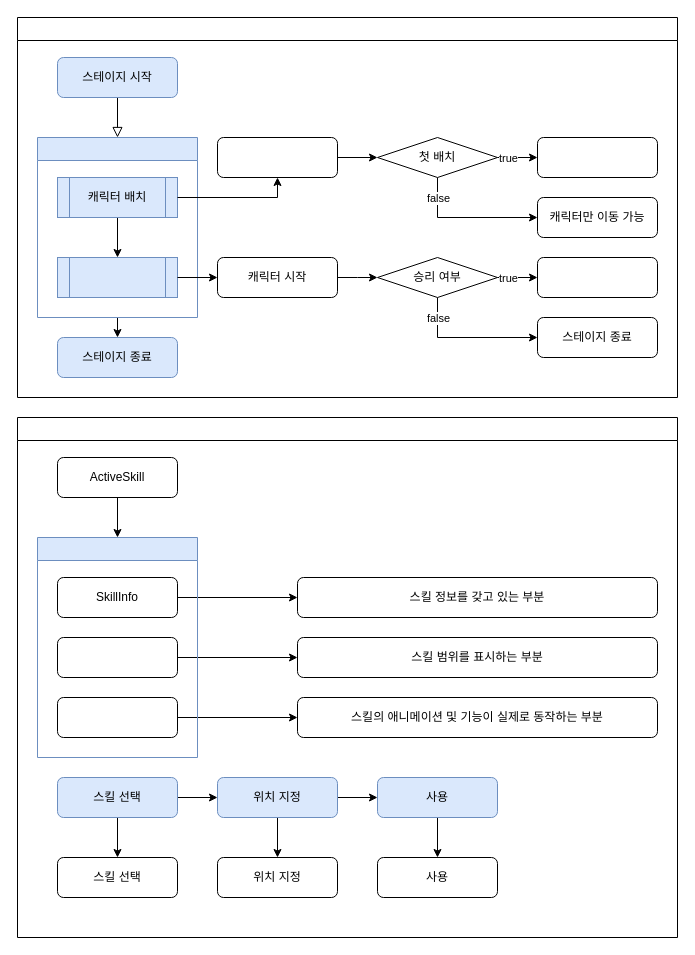
The diagram is 695 pixels wide and 955 high, and some of its shapes have lost their labels. The box of each missing label's shape, as (x1, y1, x2, y2) in pixels:
InGame Flow: (16, 16, 678, 398)
Skill 구조: (16, 416, 678, 938)
SkillArea: (56, 636, 178, 678)
SkillEffect: (56, 696, 178, 738)
Vertical Container: (36, 536, 198, 758)
게임 시작: (56, 256, 178, 298)
다음 챕터로: (536, 256, 658, 298)
스테이지 내 챕터 사이클: (36, 136, 198, 318)
캐릭터 이동 및 배치 가능: (536, 136, 658, 178)
캐릭터 정지: (216, 136, 338, 178)
